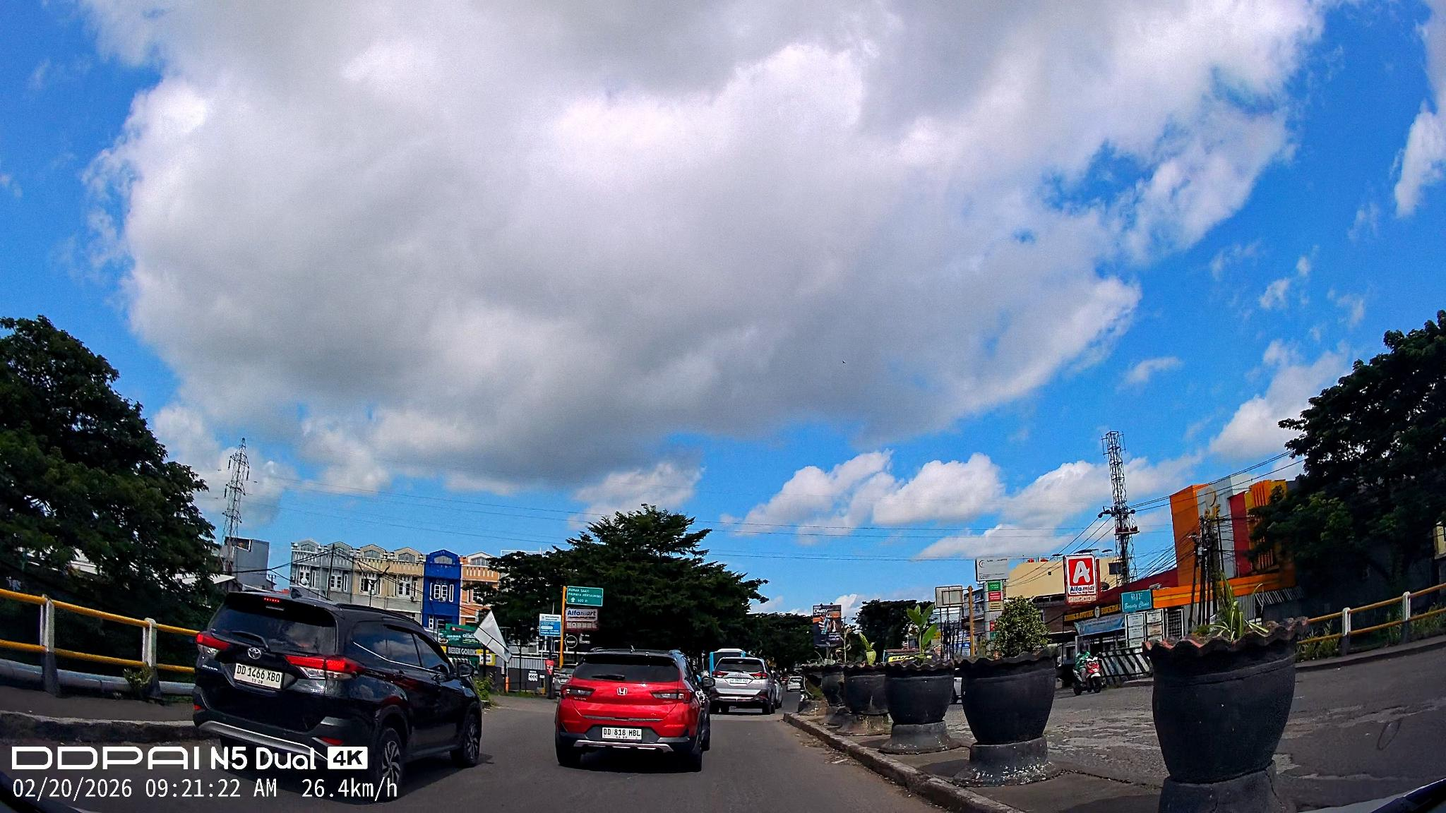rambu_teks: (566, 586, 604, 607)
